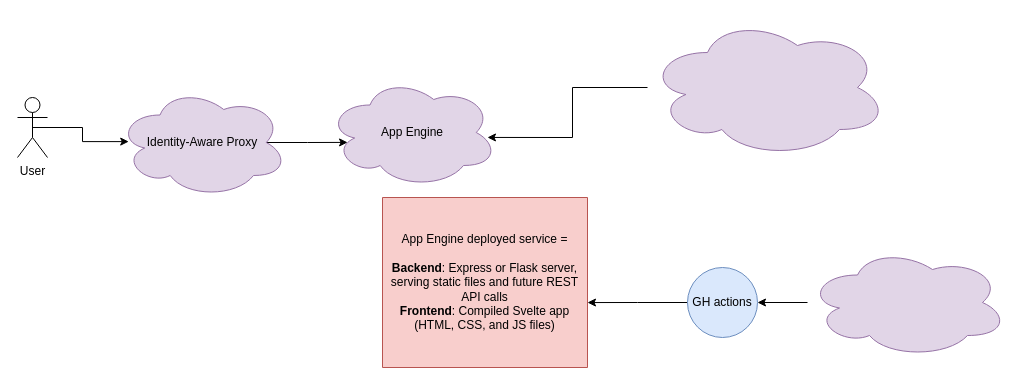
Some shapes in this 1025 by 385 pixel diagram are drawn without their labels. The centre of each missing label's shape, as x and y in pixels:
"atip GH repo (Svelte)" goes at (907,302).
"Private GCS bucket (Larger layer data files: .pmtiles, .geojson, etc)" goes at (767,87).
